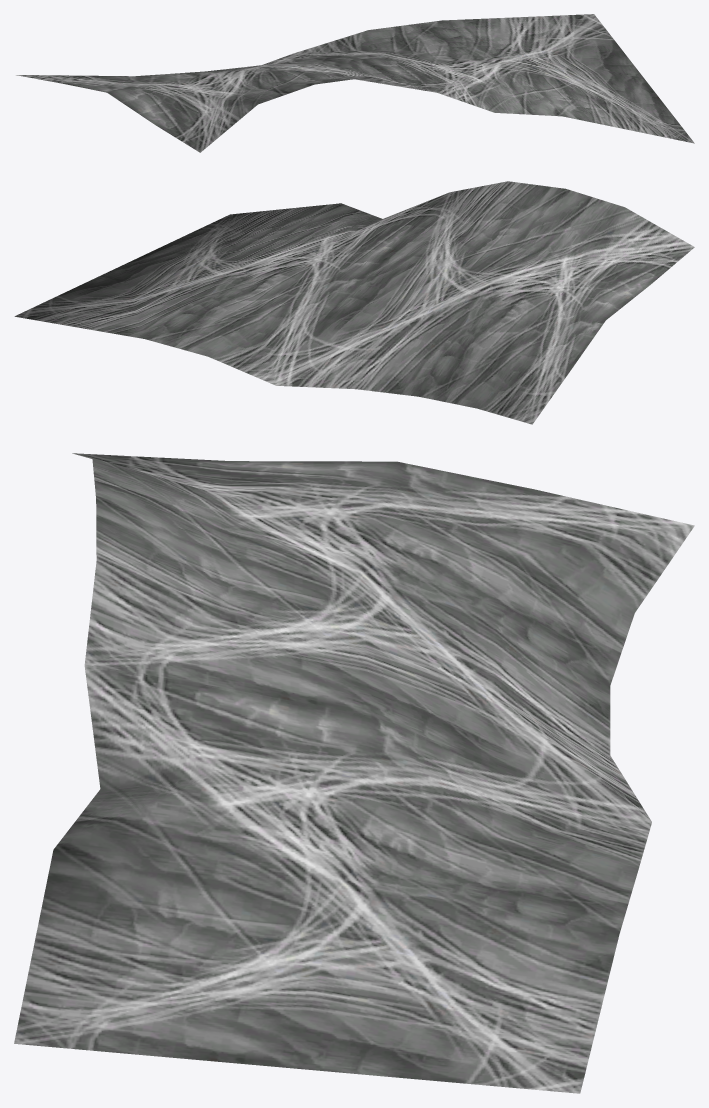
File: SWORDLIGHT20_PS-AREA01_40.fbx
3 views of the same model, one above another, from view 1: azimuth 30°, elevation 25°; view 2: azimuth 150°, elevation 25°; view 3: azimuth 270°, elevation 25° (orthographic). The views are drawn at different scales.
Parts seen in each view (by area): view 1: SWORDLIGHT20_PS-AREA01_40; view 2: SWORDLIGHT20_PS-AREA01_40; view 3: SWORDLIGHT20_PS-AREA01_40.
Boxes of the visible parts, x1,y1,x2,y2 form: SWORDLIGHT20_PS-AREA01_40: (16, 14, 694, 152); SWORDLIGHT20_PS-AREA01_40: (14, 181, 694, 424); SWORDLIGHT20_PS-AREA01_40: (14, 453, 694, 1093).
Size of the model in its own units: 120219 by 27137 by 72158.
Materials: 1 (1 with a texture image).
